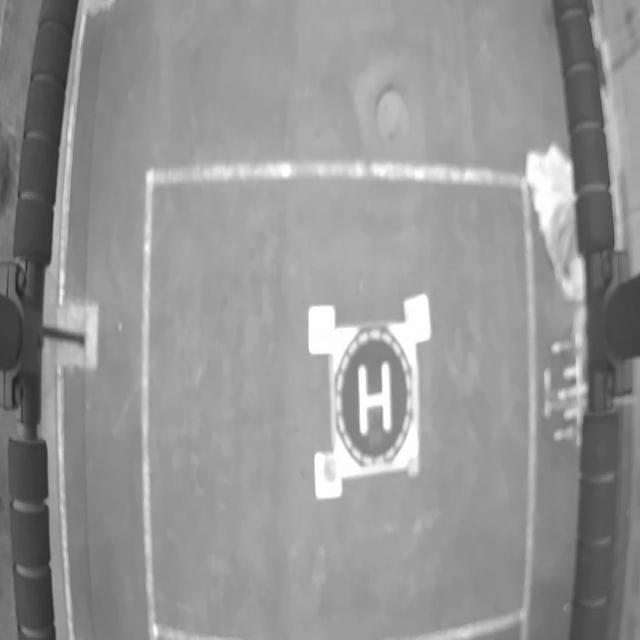Helipad: (358, 362, 393, 435)
